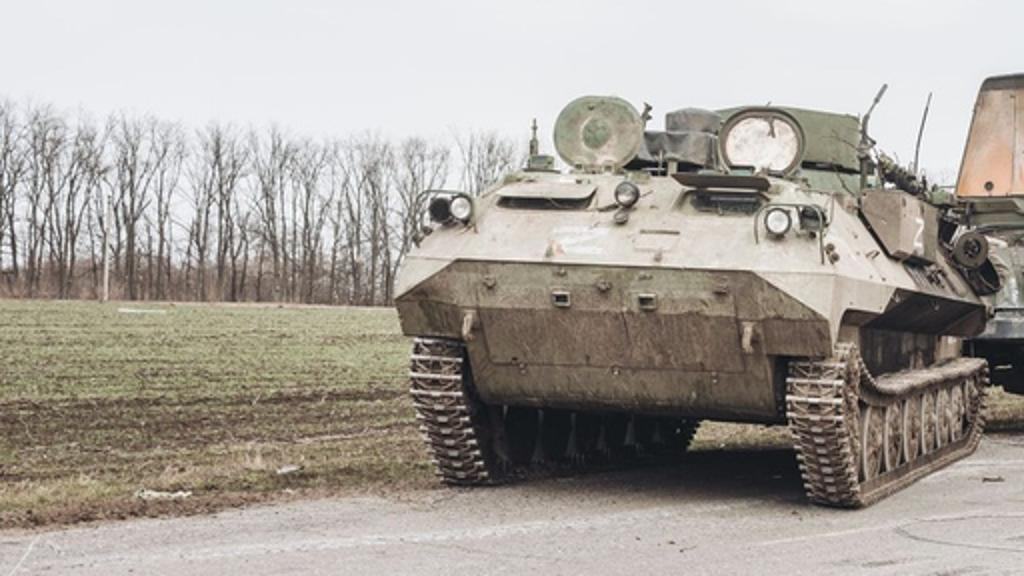APC-IFV: (386, 100, 996, 516)
